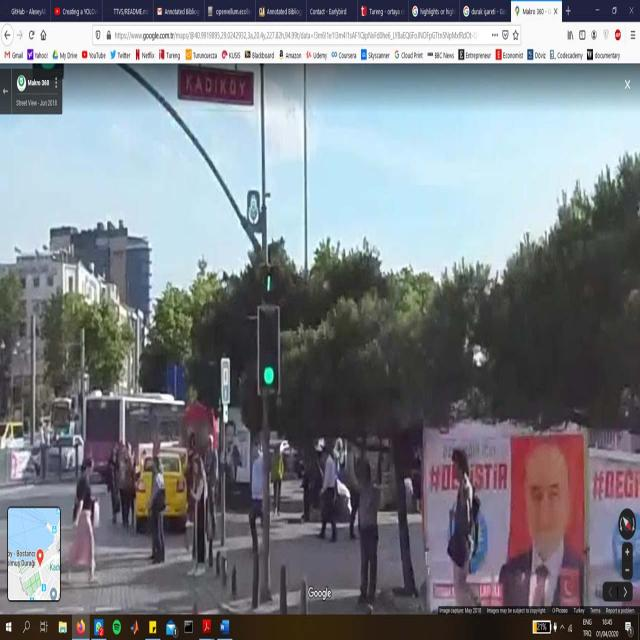yesil: (260, 306, 280, 394)
